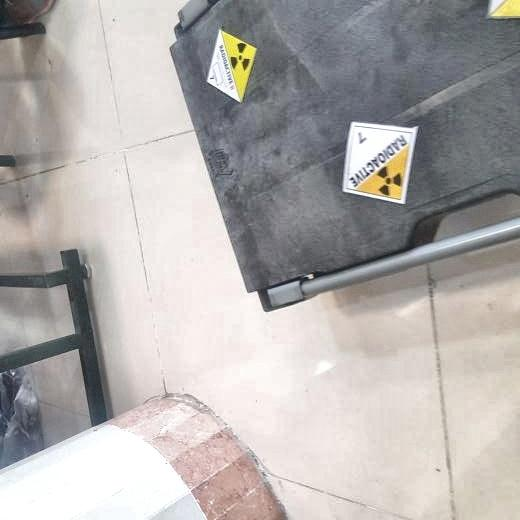radioactive: (341, 117, 419, 204), (205, 28, 256, 101)
